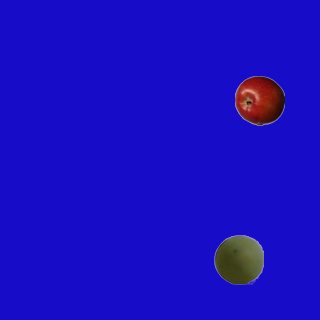Apple Braeburn: (234, 75, 284, 125)
Grape White 4: (213, 234, 263, 284)
